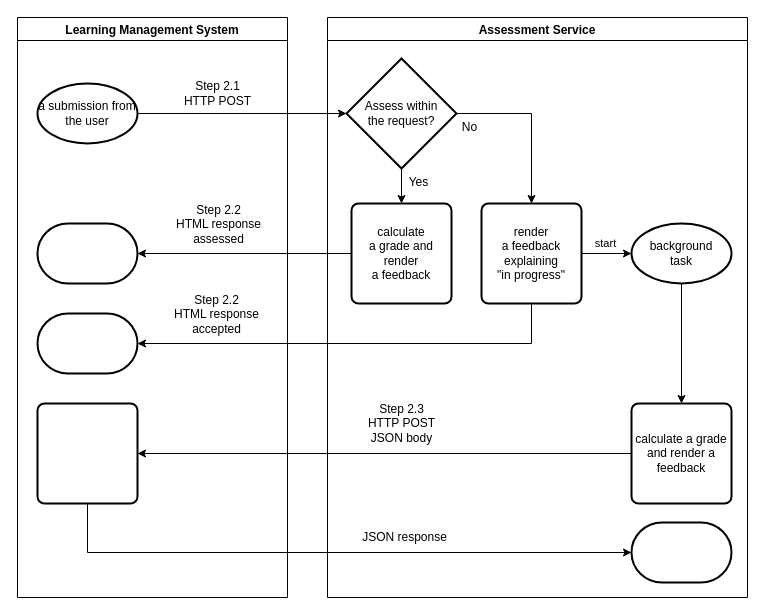
This 765x615 diagram has some shape labels left out. The shapes that lost their labels are listed below. From the top down, each one's centre as x and y in pixels, then its label:
At (87,253): "An assessment report, e.g., graded form".
At (87,343): "An assessment status report".
At (87,453): "update the feedback html and meta".
At (681,552): "Success or error".
